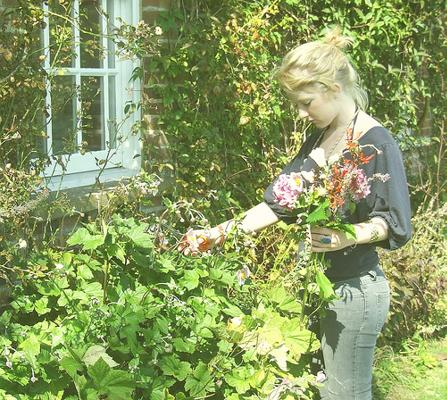person: (176, 30, 414, 400)
